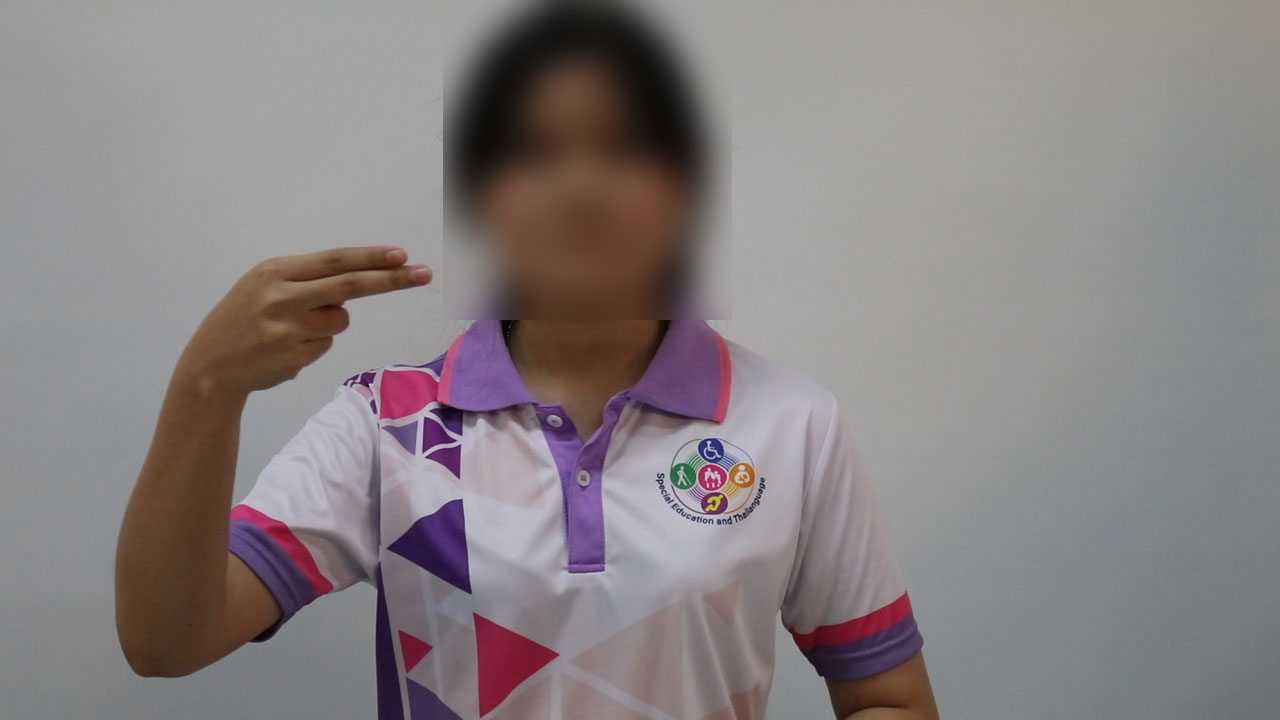hor: (156, 232, 446, 403)
